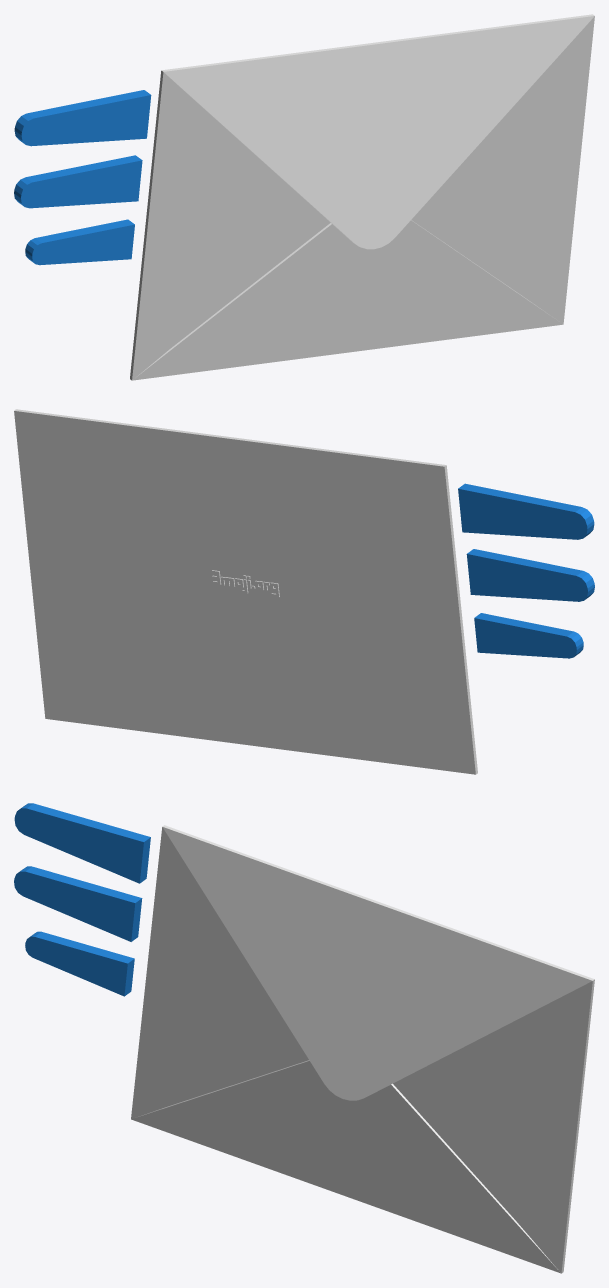
File: incoming_envelope.gltf
3 renders of one model, top to bottom at view 1: azimuth 30°, elevation 25°; view 2: azimuth 150°, elevation 25°; view 3: azimuth 330°, elevation 25°, orthographic.
Visible parts, largest first — view 1: Plane.334; view 2: Plane.334; view 3: Plane.334.
Boxes of the visible parts, <box> form: Plane.334: <box>14,14,594,380</box>; Plane.334: <box>14,409,594,774</box>; Plane.334: <box>14,803,594,1273</box>.
Bounding box in the file's own units: 2.29 × 1.33 × 0.13.
1 material, 1 textured.
